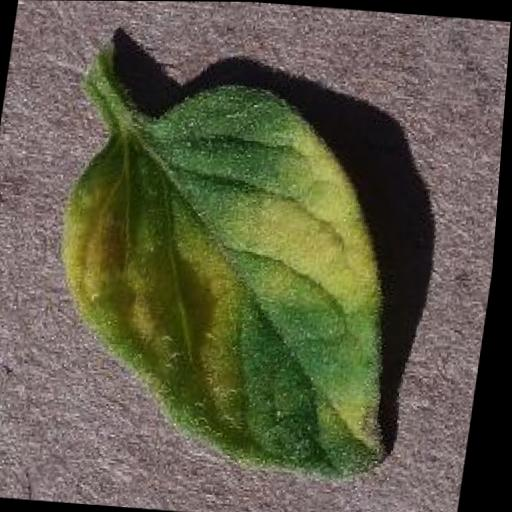Leaf Mold: (35, 73, 442, 486)
